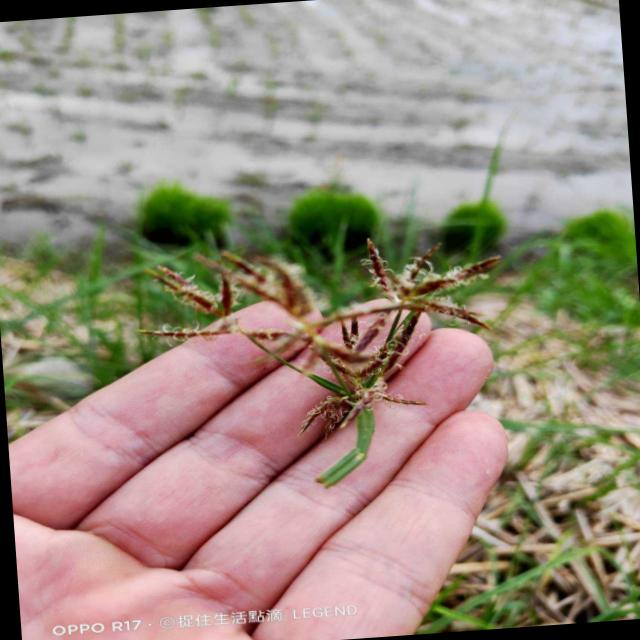cyperus: (136, 217, 518, 476)
